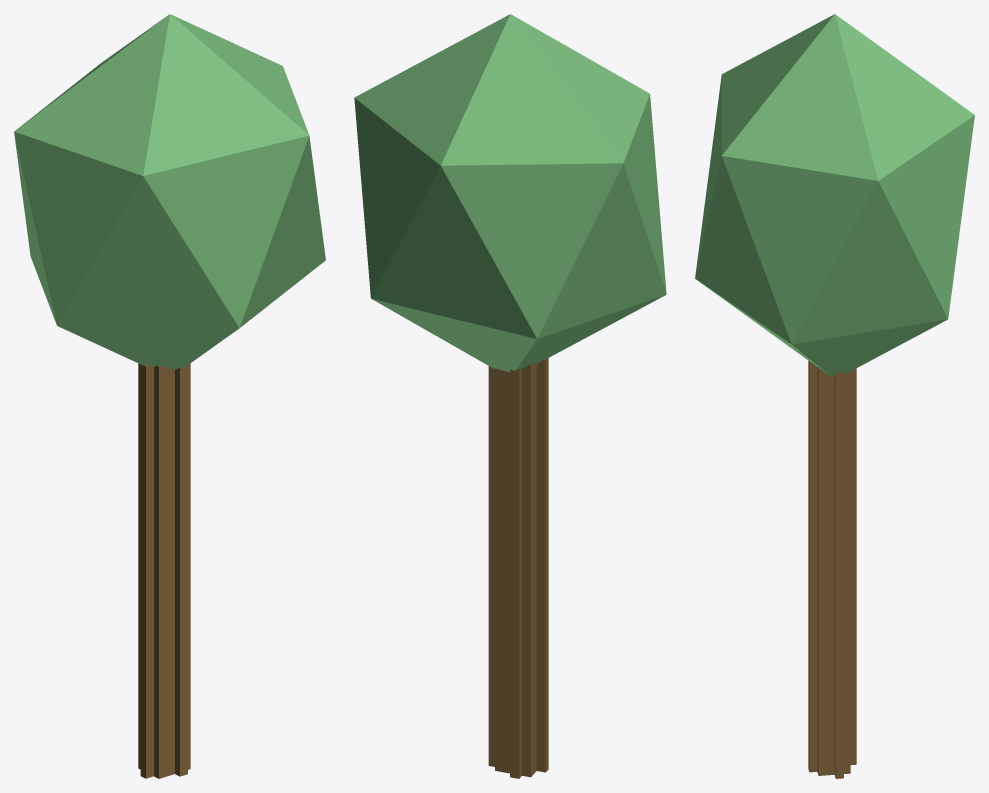
File: arbolito1.gltf
3 views of the same model, side by side, from view 1: azimuth 30°, elevation 25°; view 2: azimuth 150°, elevation 25°; view 3: azimuth 270°, elevation 25° (orthographic).
Visible parts, largest first — view 1: Mesh_Mesh_head_geo.001_lambert2SG.002; view 2: Mesh_Mesh_head_geo.001_lambert2SG.002; view 3: Mesh_Mesh_head_geo.001_lambert2SG.002.
Boxes of the visible parts, x1,y1,x2,y2 form: Mesh_Mesh_head_geo.001_lambert2SG.002: (14, 14, 325, 778); Mesh_Mesh_head_geo.001_lambert2SG.002: (354, 14, 666, 778); Mesh_Mesh_head_geo.001_lambert2SG.002: (695, 14, 974, 778).
Size of the model in its own units: 58 by 155 by 52.03.
